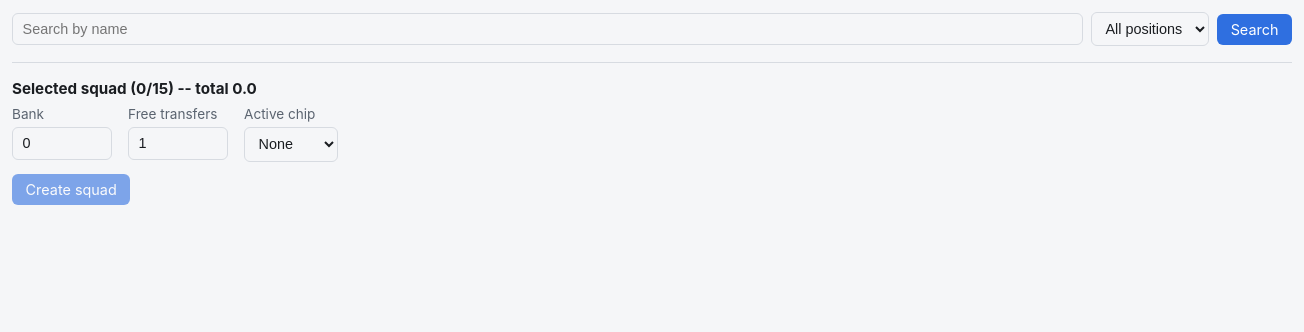
it: ManualSquadForm › disables the Add button (and shows Added) once a player is already selected
The image size is (1304, 332).
Click the button "Search". click: (1254, 29)
box: left=1217, top=14, right=1292, bottom=45
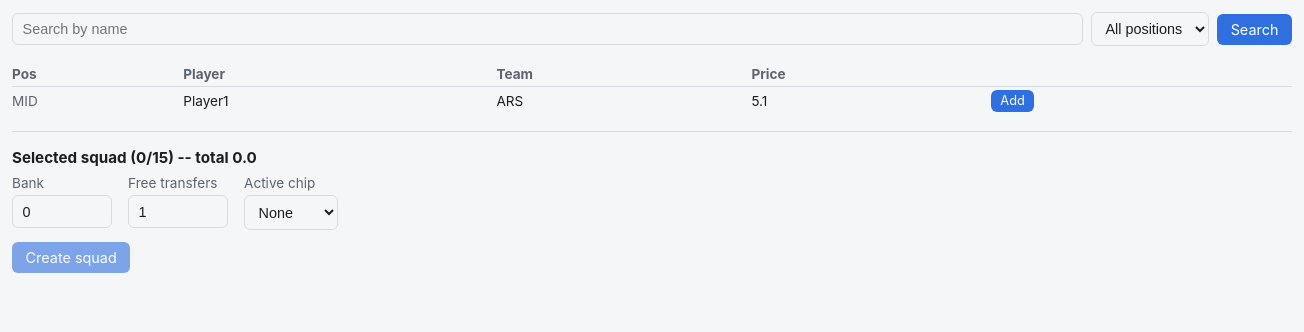
Click the button "Add". click: (1013, 101)
box: left=991, top=90, right=1034, bottom=112
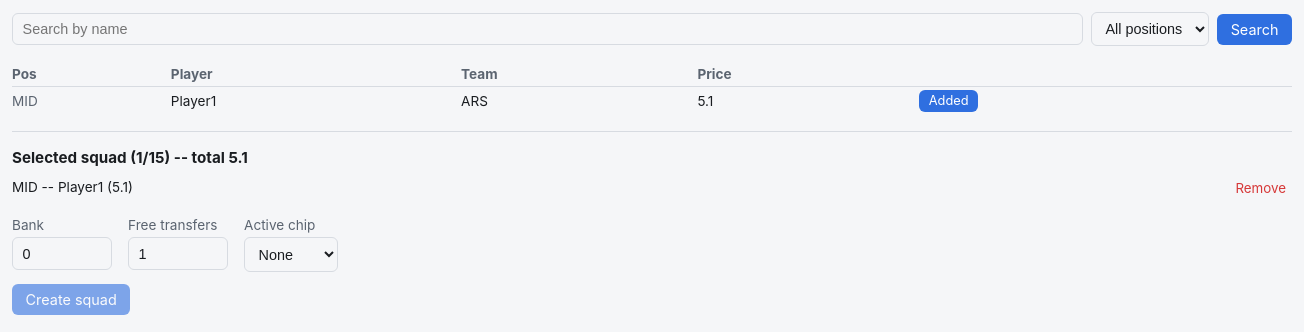
Expected: the button "Added" is disabled, left=919, top=90, right=978, bottom=112
